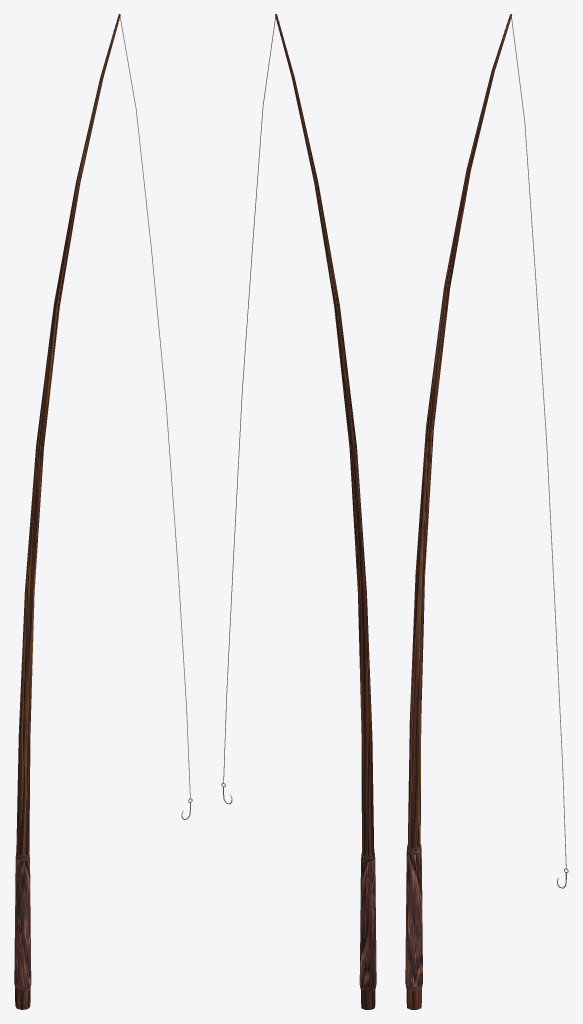
Rendered from Vara_Pesca.glb.
3 views of the same model, side by side, from view 1: azimuth 30°, elevation 25°; view 2: azimuth 150°, elevation 25°; view 3: azimuth 330°, elevation 25° (orthographic). The views are drawn at different scales.
Parts seen in each view (by area): view 1: Haste de madeira, Empunhadura enrolada, Linha de pesca; view 2: Haste de madeira, Empunhadura enrolada, Linha de pesca; view 3: Haste de madeira, Empunhadura enrolada, Linha de pesca.
Boxes of the visible parts, <box> form: Haste de madeira: <box>15,14,120,1009</box>; Empunhadura enrolada: <box>14,853,31,991</box>; Linha de pesca: <box>120,16,190,798</box>; Haste de madeira: <box>275,14,375,1009</box>; Empunhadura enrolada: <box>359,853,376,992</box>; Linha de pesca: <box>223,17,275,782</box>; Haste de madeira: <box>406,14,511,1009</box>; Empunhadura enrolada: <box>405,844,422,991</box>; Linha de pesca: <box>511,16,566,868</box>.
Bounding box in the file's own units: 0.3398 × 1.9 × 0.056.
4 materials, 4 textured.
